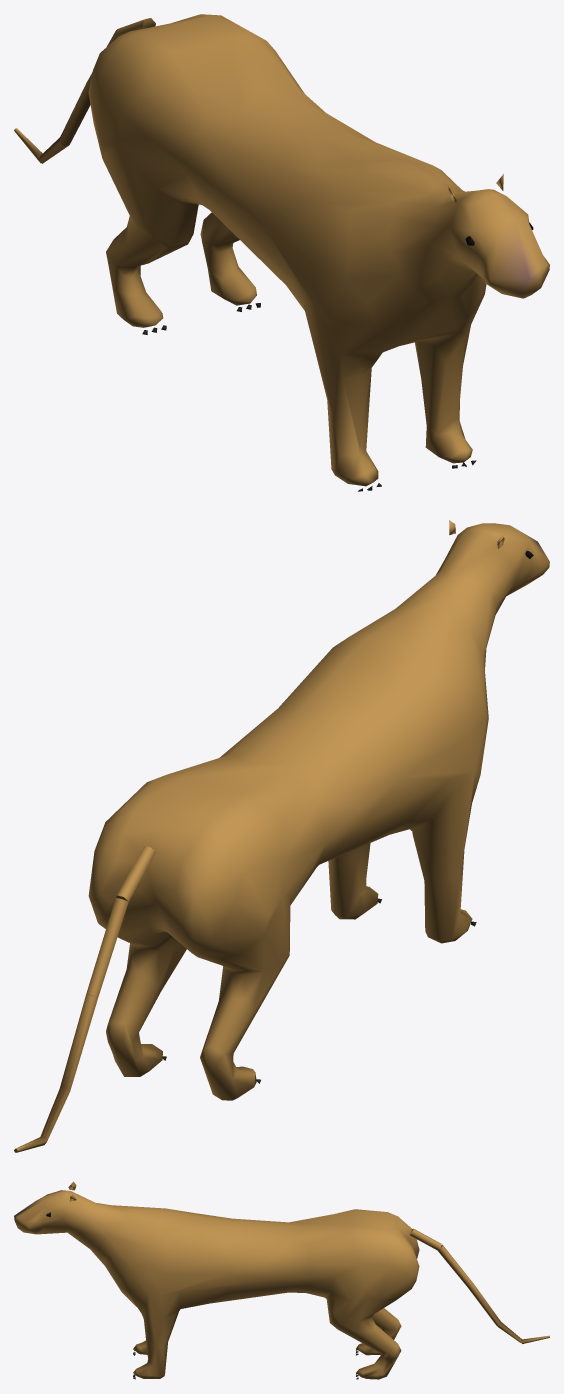
The model's file is tiger.glb.
The picture shows the model from 3 angles, top to bottom: view 1: azimuth 30°, elevation 25°; view 2: azimuth 150°, elevation 25°; view 3: azimuth 270°, elevation 25°; orthographic projection. The views are drawn at different scales.
Parts seen in each view (by area): view 1: lack; view 2: lack; view 3: lack.
Boxes of the visible parts, left/top/right/bottom form: lack: left=14, top=14, right=549, bottom=491; lack: left=14, top=520, right=549, bottom=1152; lack: left=14, top=1181, right=549, bottom=1379.
Bounding box in the file's own units: 0.6399 × 1.25 × 3.42.
